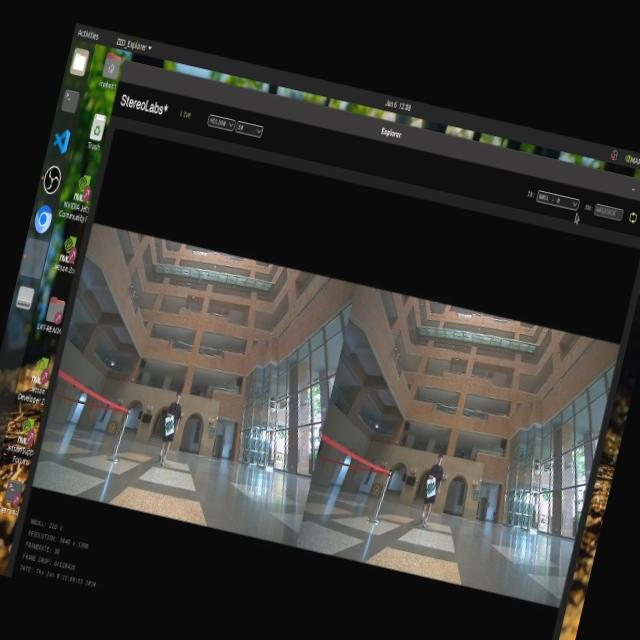green: (158, 414, 180, 435), (426, 474, 440, 502)
